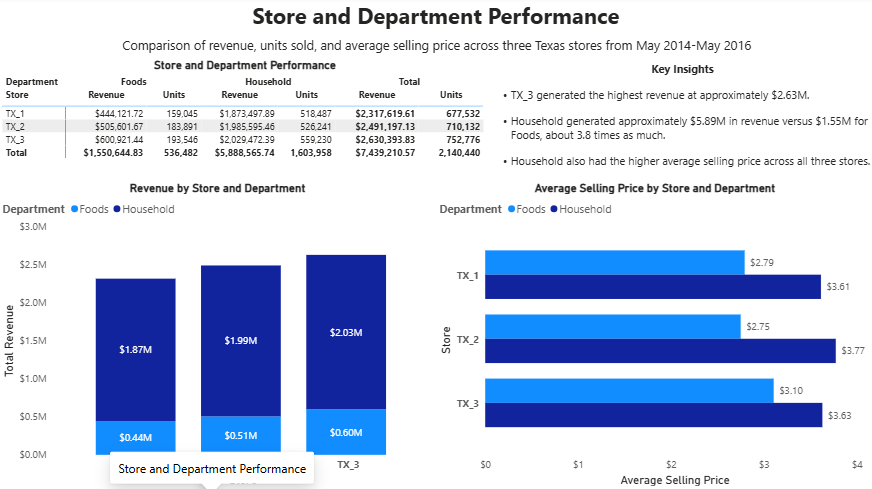

This screenshot's page, from the dashboard's own definition file:
{"tool":"powerbi","page":{"name":"Store and Department Performance","canvas":[1280,720],"ordinal":1},"visuals":[{"type":"pivotTable","title":"Store and Department Performance","fields":{"Rows":["Daily Store Performance.store_id"],"Columns":["Daily Store Performance.dept_id"],"Values":["Daily Store Performance.Total Revenue","Daily Store Performance.Total Units Sold"]},"box":[0,89.3,720,180],"z":0},{"type":"columnChart","title":"Revenue by Store and Department","fields":{"Category":["Daily Store Performance.store_id"],"Y":["Daily Store Performance.Total Revenue"],"Series":["Daily Store Performance.dept_id"]},"box":[0,269.3,639.5,450.7],"z":1000},{"type":"clusteredBarChart","title":"Average Selling Price by Store and Department","fields":{"Category":["Daily Store Performance.store_id"],"Y":["Daily Store Performance.Average Selling Price"],"Series":["Daily Store Performance.dept_id"]},"box":[639.5,269.3,641,450.7],"z":2000},{"type":"textbox","box":[347.3,0,585.4,52.7],"z":3000},{"type":"textbox","box":[135.5,52.2,1009,37.3],"z":4000},{"type":"textbox","box":[720,89.3,560.5,180],"z":5000}]}

Visuals, with their boxes in screenshot pixels (x1, y1, x2, y2), scaled from the page's 1280x720 canvas onto the 872x489 screenshot:
"Store and Department Performance" pivotTable: box(0, 61, 490, 183)
"Revenue by Store and Department" columnChart: box(0, 183, 436, 488)
"Average Selling Price by Store and Department" clusteredBarChart: box(436, 183, 871, 488)
textbox: box(237, 0, 635, 36)
textbox: box(92, 35, 780, 61)
textbox: box(490, 61, 871, 183)
